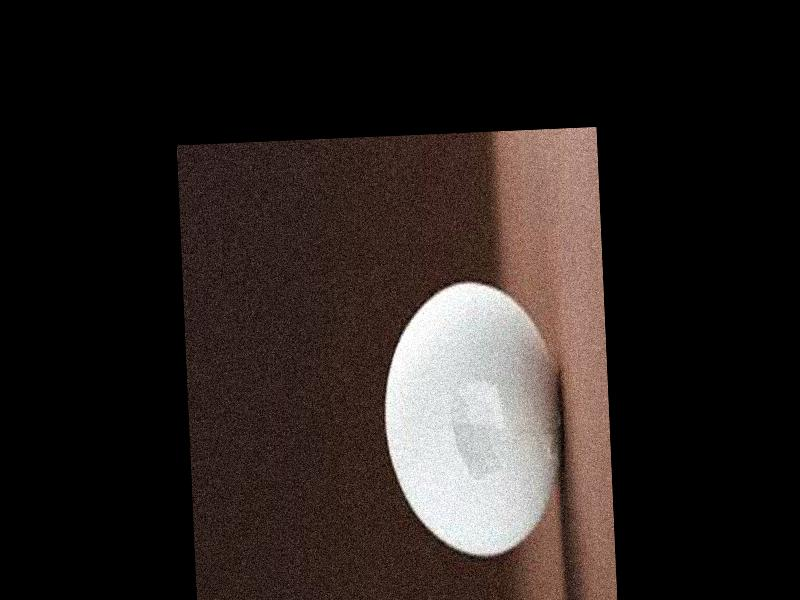Eggs: (379, 279, 568, 556)
